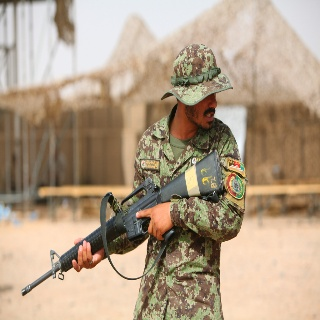rifle: (21, 149, 226, 298)
